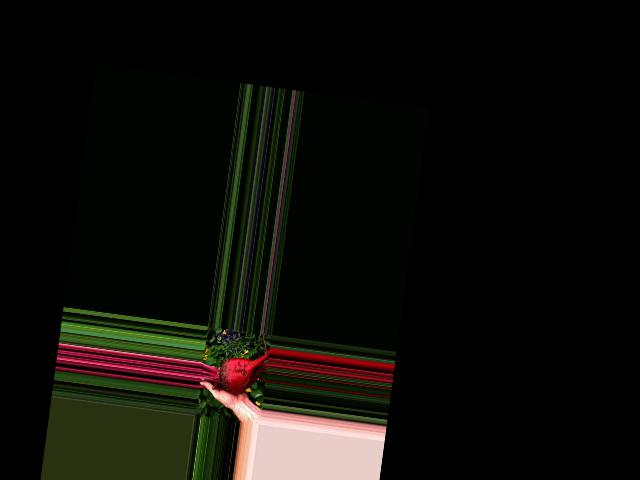beet: (198, 340, 270, 397)
